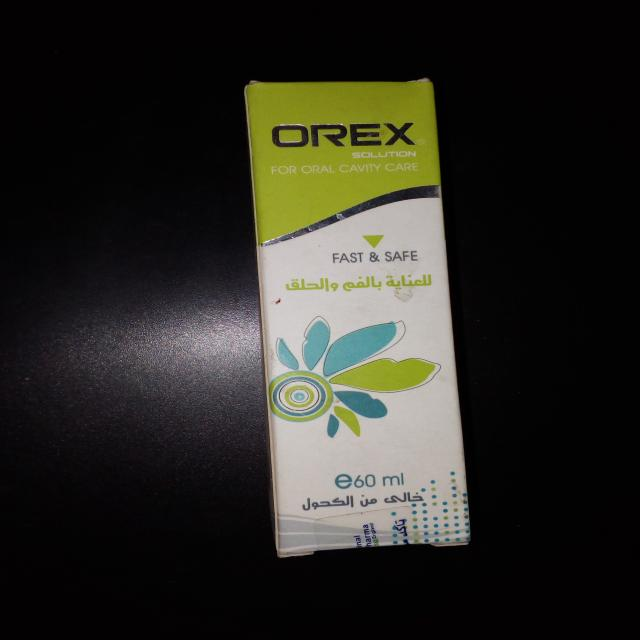Medicine: (235, 75, 479, 560)
